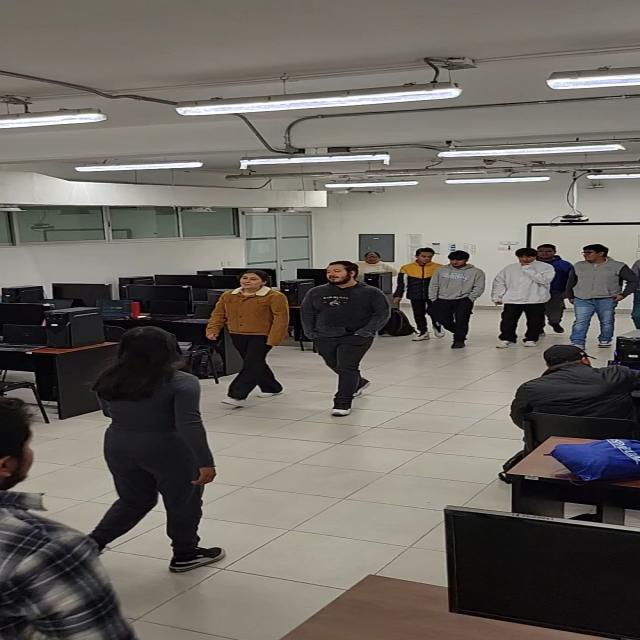Persona: (81, 318, 226, 574), (298, 260, 386, 419), (208, 264, 290, 408), (572, 241, 640, 349), (493, 246, 552, 348), (430, 247, 480, 352), (396, 245, 438, 343)
